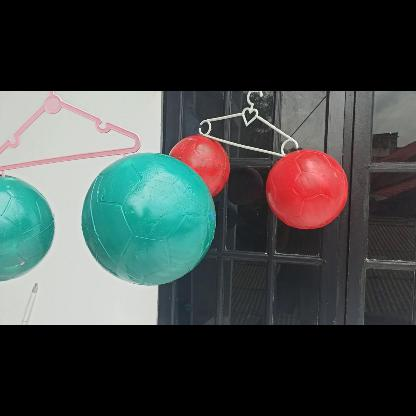red_ball: (268, 148, 349, 228)
